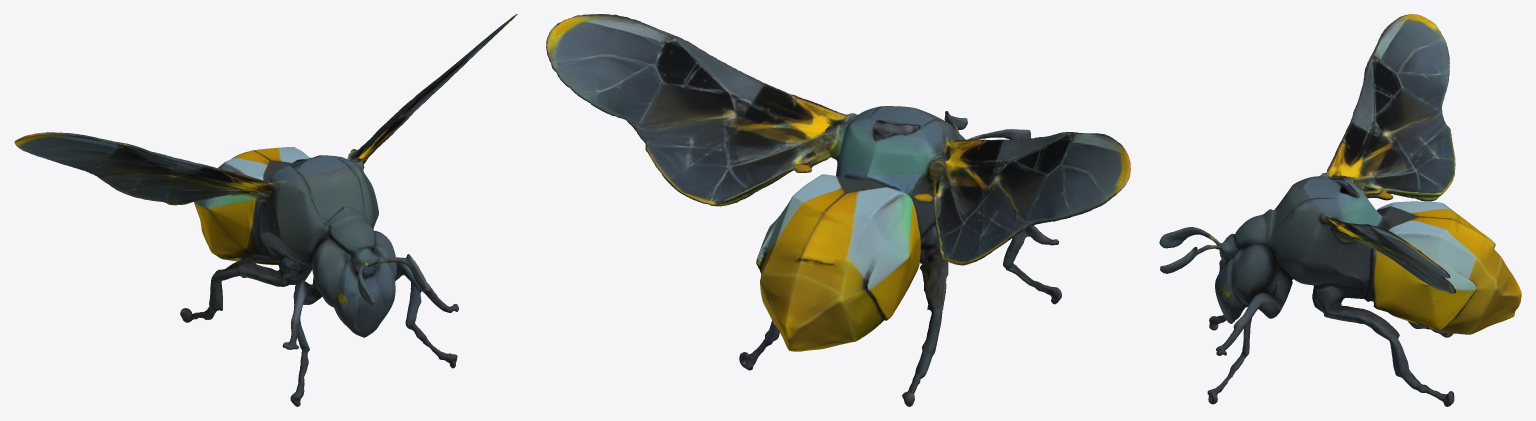
The model's file is firefly.glb.
3 renders of one model, left to right at view 1: azimuth 30°, elevation 25°; view 2: azimuth 150°, elevation 25°; view 3: azimuth 270°, elevation 25°, orthographic. The views are drawn at different scales.
Size of the model in its own units: 2 by 0.9539 by 1.27.
Materials: 1 (1 with a texture image).
